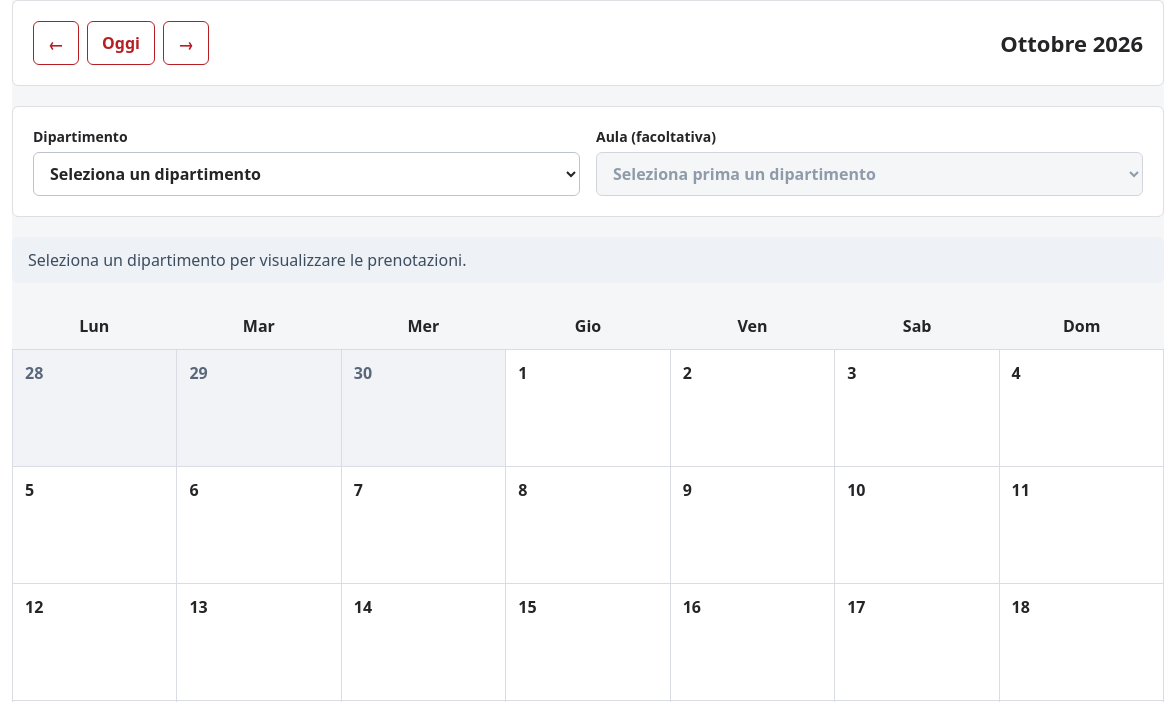
it: UNITICKET3-19 - Calendario aule › cambia mese con le frecce e torna al mese corrente con Oggi
Click the button named "Periodo successivo".
click(186, 43)  # box left=163, top=21, right=209, bottom=65
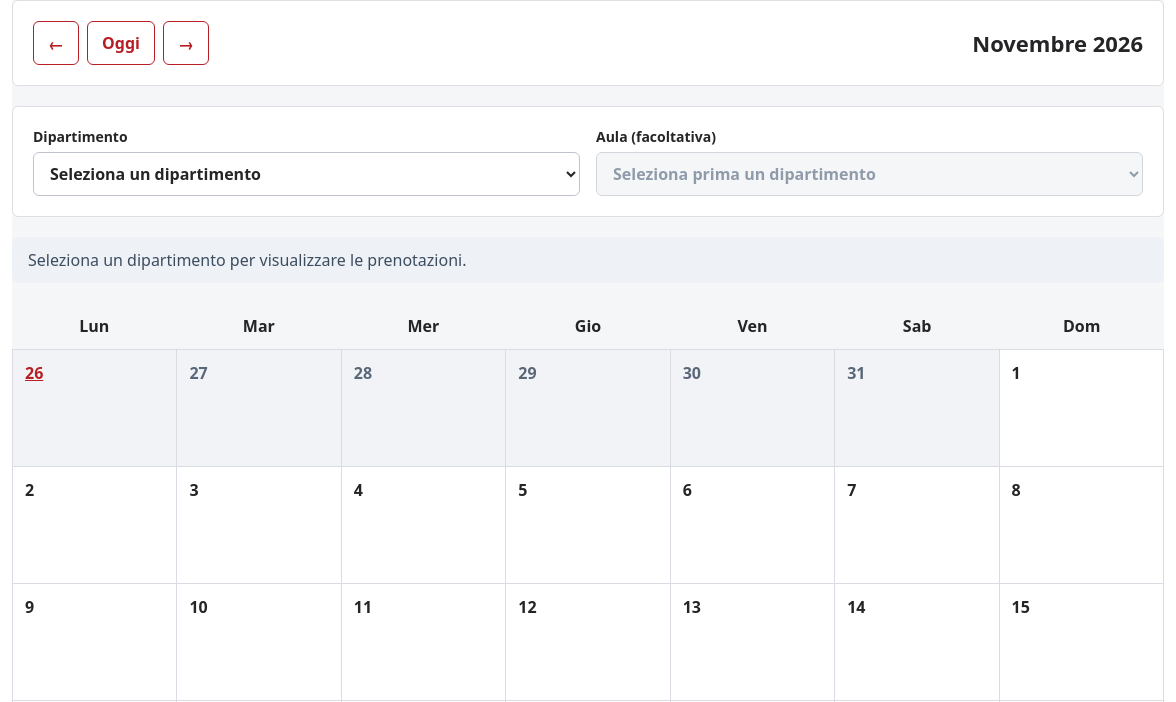
Result: the heading "novembre 2026" is shown at left=972, top=28, right=1143, bottom=58
Click the button named "Periodo precedente".
click(56, 43)  # box left=33, top=21, right=79, bottom=65
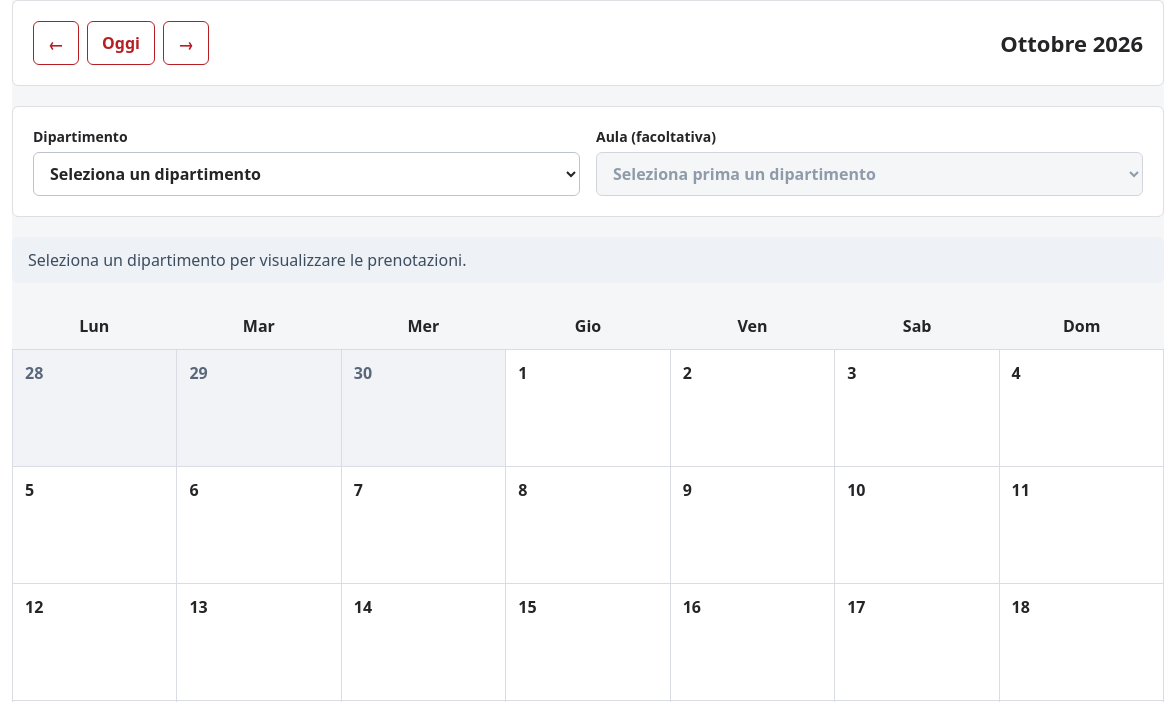
Result: the heading "ottobre 2026" is shown at left=1000, top=28, right=1143, bottom=58
Click the button named "Periodo precedente".
click(56, 43)  # box left=33, top=21, right=79, bottom=65
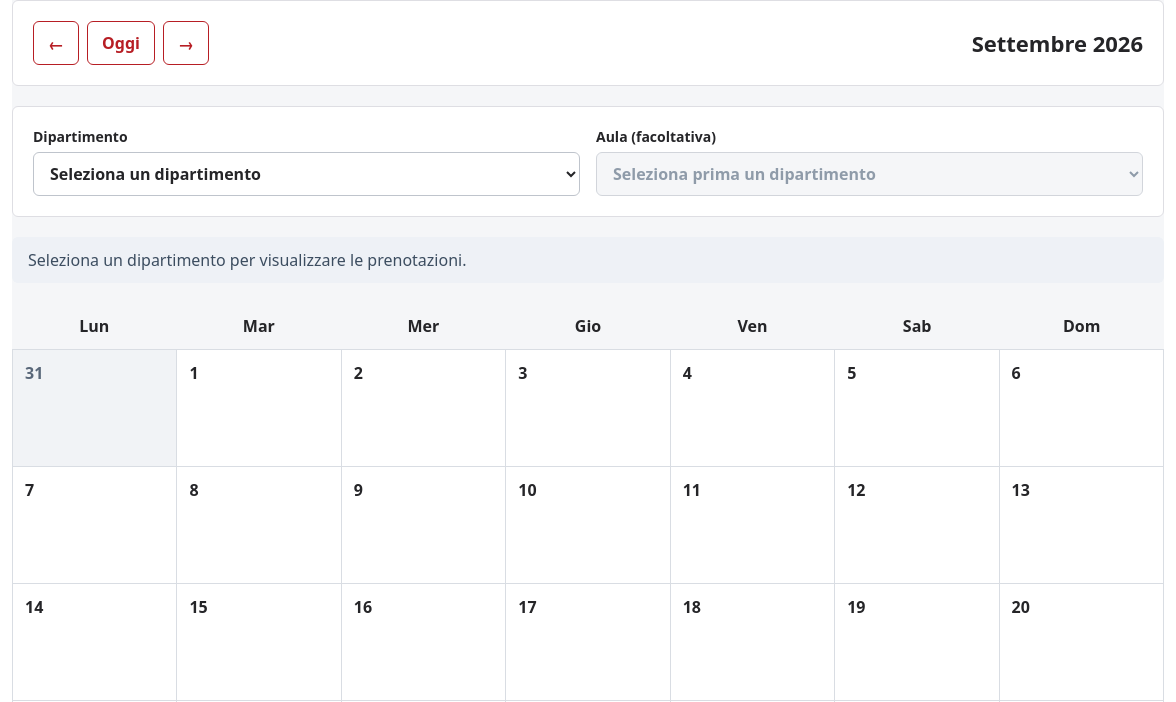
Click the button "Oggi".
click(121, 43)  # box left=87, top=21, right=155, bottom=65
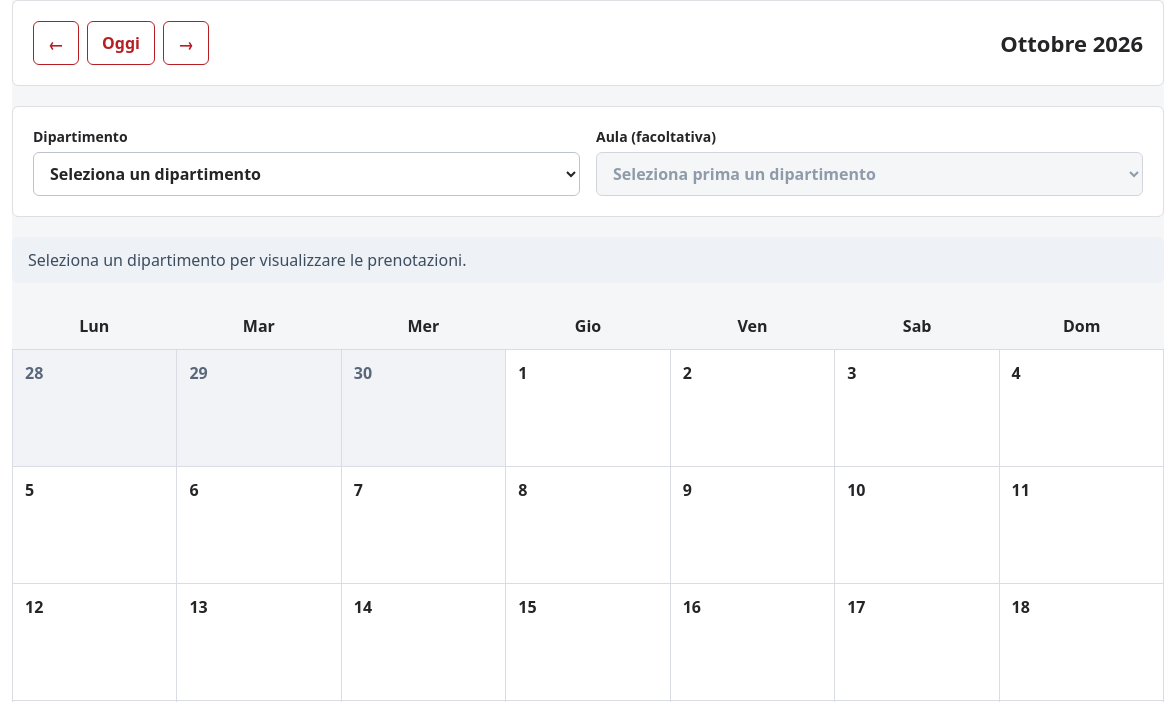
Result: the heading "ottobre 2026" is shown at left=1000, top=28, right=1143, bottom=58
